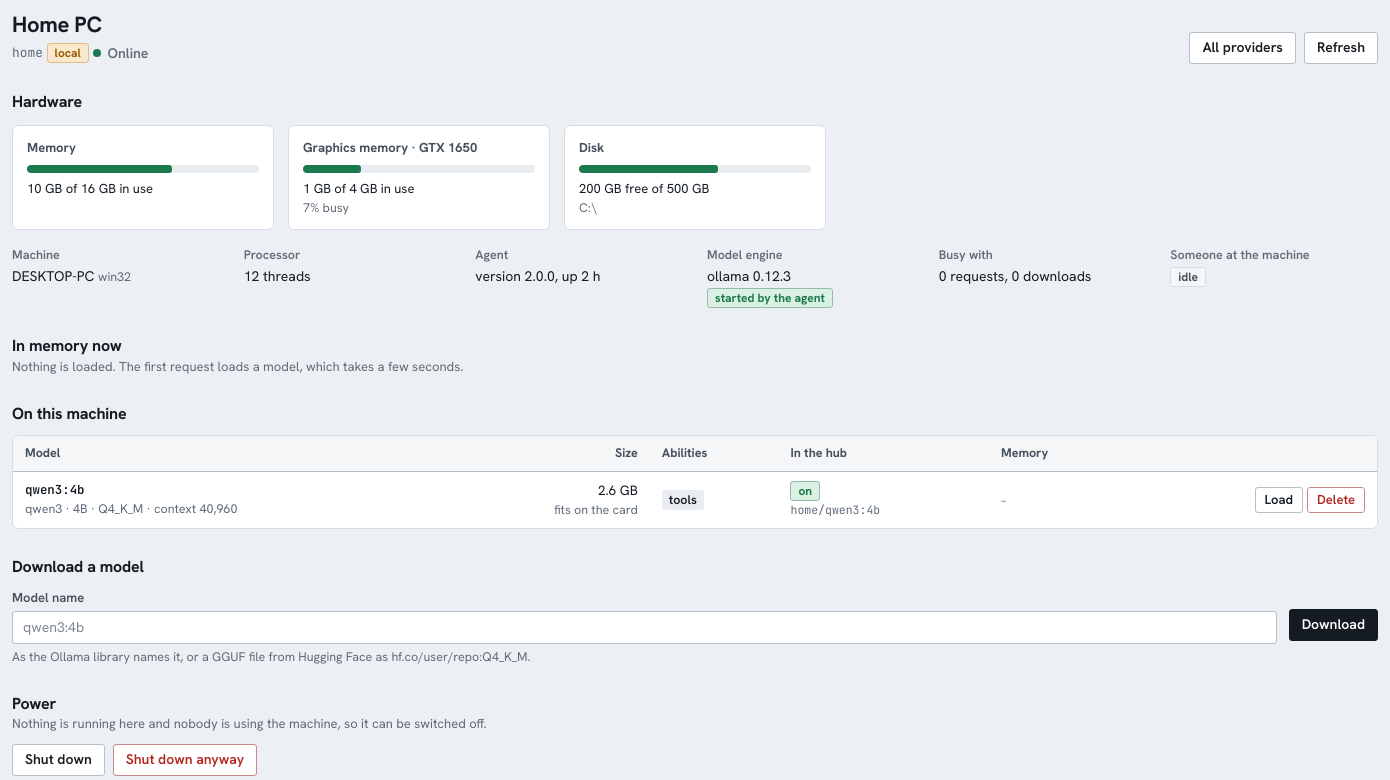
Test: downloading › checks the name before it asks the machine
Type "two words" into the field labelled "Model name" at [644, 628], box left=12, top=611, right=1277, bottom=644
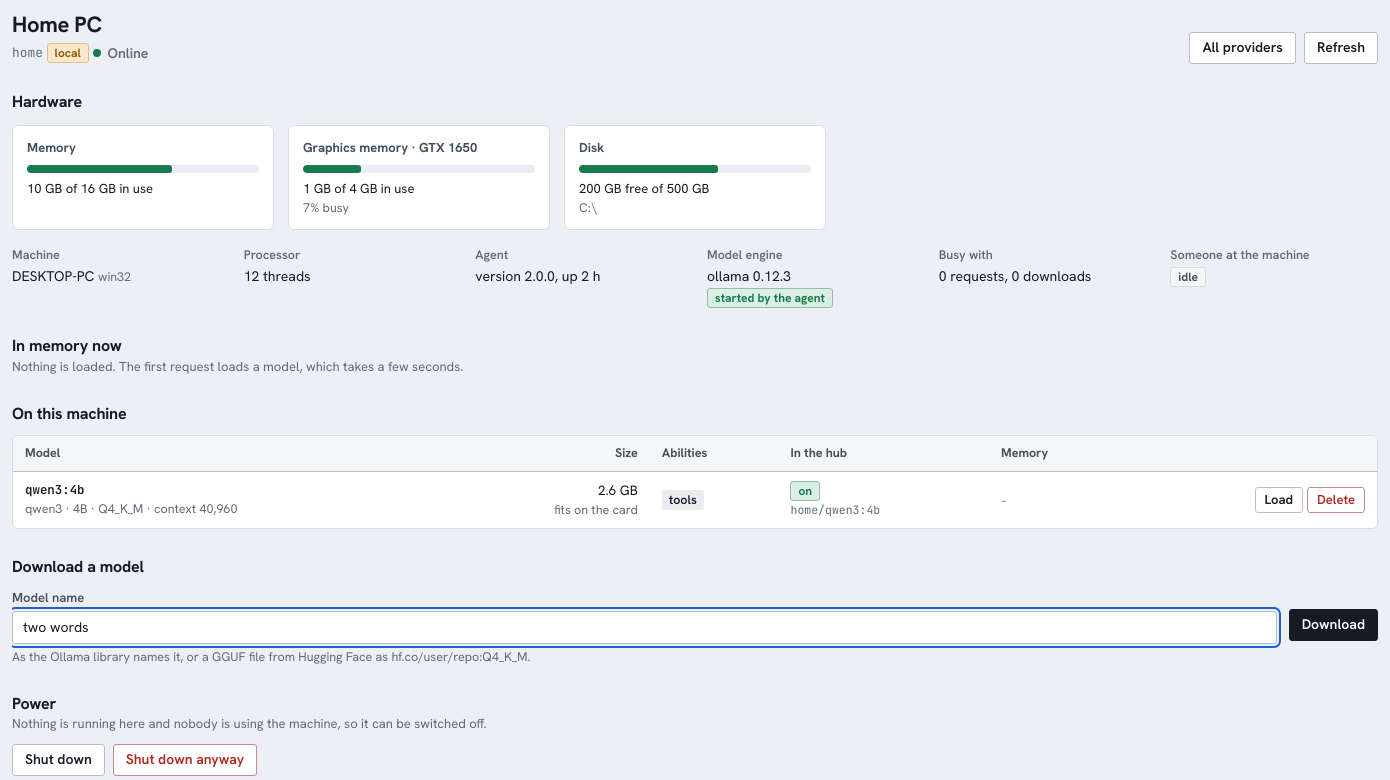
Click the button "Download" at [1333, 625], box left=1289, top=609, right=1378, bottom=641
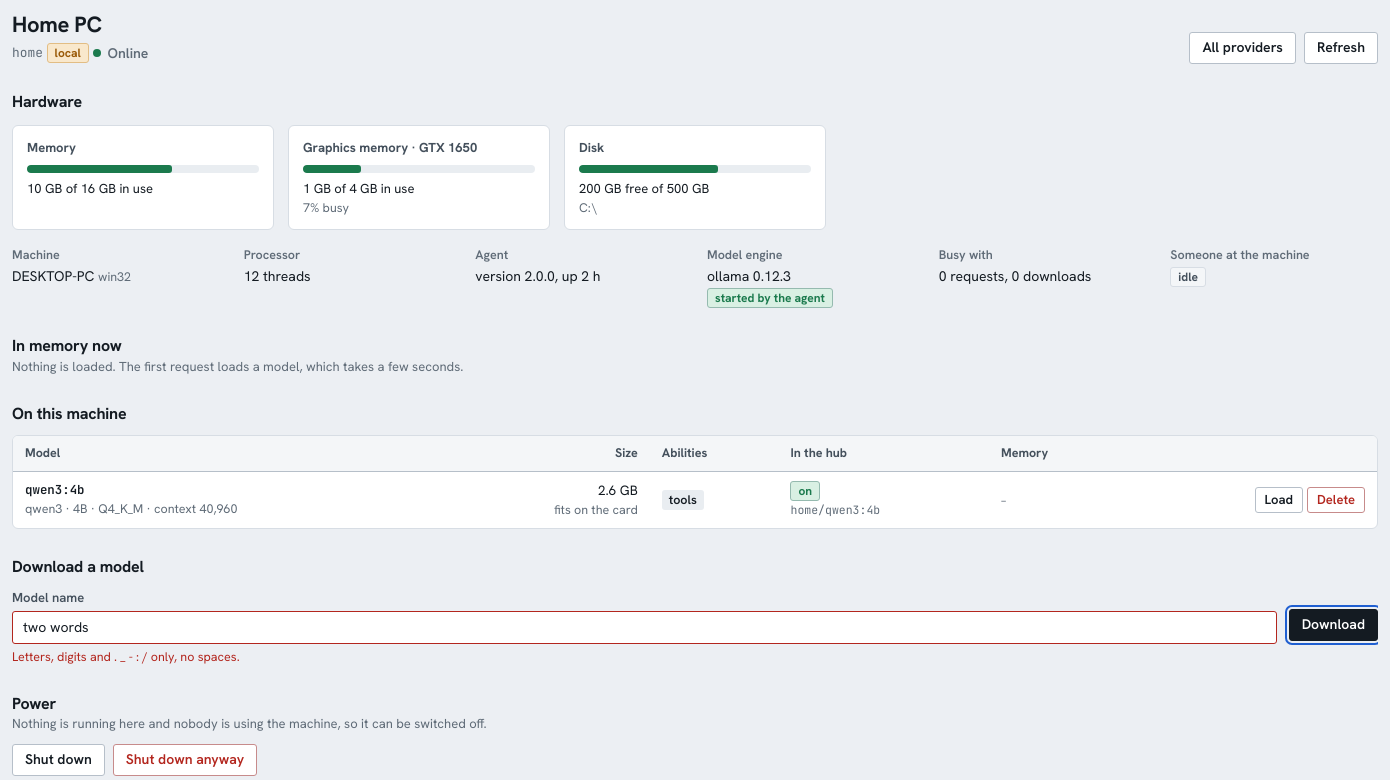
expect the text "Letters, digits and . _ - : / only, no spaces." is shown: met, box left=12, top=648, right=240, bottom=665
